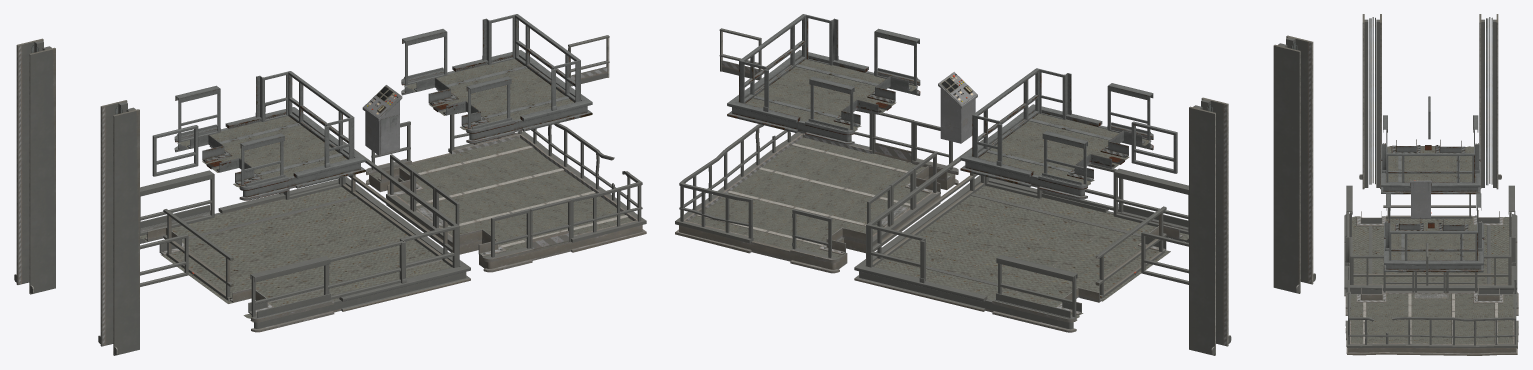
Rendered from The box.fbx.
3 views of the same model, side by side, from view 1: azimuth 30°, elevation 25°; view 2: azimuth 150°, elevation 25°; view 3: azimuth 270°, elevation 25° (orthographic). The views are drawn at different scales.
Visible parts, largest first — view 1: SM_Level012Elevator.mo, SM_HatchElevator.mo, SM_ElevatorRails.mo, SM_ElevatorGrated_A.mo, SM_ElevatorGrated_B.mo, SM_ControlPanel.mo, SM_ElevatorDoorLeft_A.mo, SM_HatchElevatorDoor.mo, SM_Level012ElevatorDoor_A.mo; view 2: SM_Level012Elevator.mo, SM_HatchElevator.mo, SM_ElevatorRails.mo, SM_ElevatorGrated_A.mo, SM_ElevatorGrated_B.mo, SM_ControlPanel.mo, SM_ElevatorDoorLeft_A.mo, SM_Level012ElevatorDoor_A.mo, SM_HatchElevatorDoor.mo; view 3: SM_HatchElevator.mo, SM_Level012Elevator.mo, SM_ElevatorRails.mo, SM_ElevatorGrated_B.mo, SM_ElevatorGrated_A.mo, SM_ControlPanel.mo.
Part boxes in pixels (bbox=[...]): SM_Level012Elevator.mo: bbox=[140, 141, 470, 332]; SM_HatchElevator.mo: bbox=[366, 111, 646, 272]; SM_ElevatorRails.mo: bbox=[14, 38, 139, 355]; SM_ElevatorGrated_A.mo: bbox=[174, 71, 365, 200]; SM_ElevatorGrated_B.mo: bbox=[401, 14, 592, 143]; SM_ControlPanel.mo: bbox=[362, 85, 402, 155]; SM_ElevatorDoorLeft_A.mo: bbox=[152, 125, 198, 176]; SM_HatchElevatorDoor.mo: bbox=[568, 35, 609, 86]; SM_Level012ElevatorDoor_A.mo: bbox=[140, 234, 188, 286]; SM_Level012Elevator.mo: bbox=[854, 139, 1188, 332]; SM_HatchElevator.mo: bbox=[675, 109, 958, 273]; SM_ElevatorRails.mo: bbox=[1189, 35, 1315, 355]; SM_ElevatorGrated_A.mo: bbox=[960, 68, 1153, 199]; SM_ElevatorGrated_B.mo: bbox=[727, 14, 920, 145]; SM_ControlPanel.mo: bbox=[938, 72, 977, 143]; SM_ElevatorDoorLeft_A.mo: bbox=[1131, 121, 1177, 173]; SM_Level012ElevatorDoor_A.mo: bbox=[1141, 232, 1188, 284]; SM_HatchElevatorDoor.mo: bbox=[719, 28, 761, 80]; SM_HatchElevator.mo: bbox=[1345, 265, 1518, 355]; SM_Level012Elevator.mo: bbox=[1344, 185, 1517, 296]; SM_ElevatorRails.mo: bbox=[1359, 14, 1501, 189]; SM_ElevatorGrated_B.mo: bbox=[1384, 193, 1483, 272]; SM_ElevatorGrated_A.mo: bbox=[1381, 115, 1480, 194]; SM_ControlPanel.mo: bbox=[1410, 180, 1431, 218].
Size of the model in its own units: 1303 by 552 by 524.
